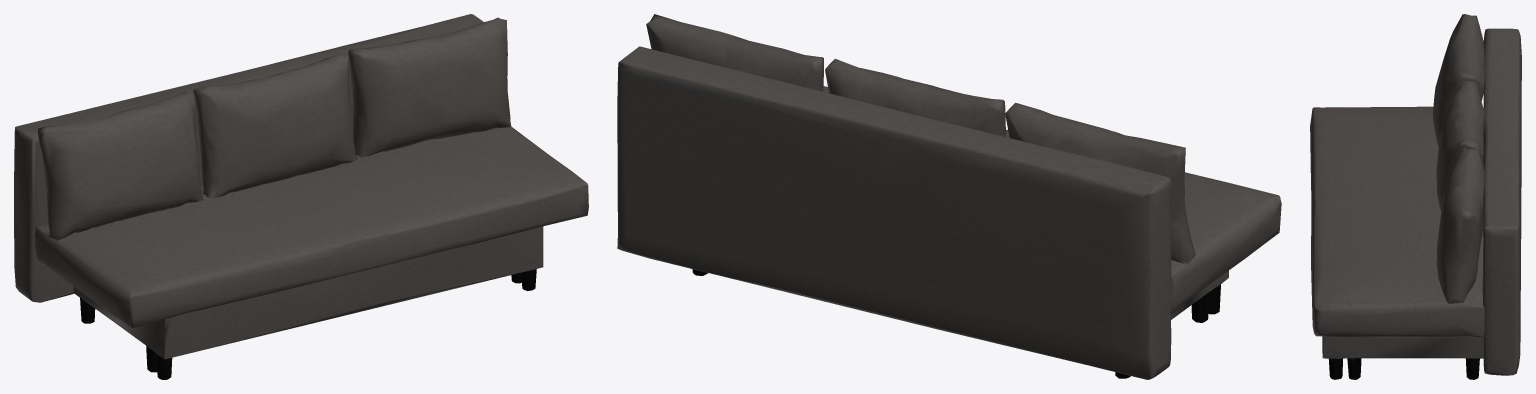
File: alvdalen_sofa_3_osobowa_rozkadana_80462596.glb
3 renders of one model, left to right at view 1: azimuth 30°, elevation 25°; view 2: azimuth 150°, elevation 25°; view 3: azimuth 270°, elevation 25°, orthographic. The views are drawn at different scales.
Parts seen in each view (by area): view 1: alvdalen_sofa_3_osobowa_rozkadana_80462596; view 2: alvdalen_sofa_3_osobowa_rozkadana_80462596; view 3: alvdalen_sofa_3_osobowa_rozkadana_80462596.
Part boxes in pixels (left/top/right/bottom): alvdalen_sofa_3_osobowa_rozkadana_80462596: left=14, top=14, right=588, bottom=379; alvdalen_sofa_3_osobowa_rozkadana_80462596: left=617, top=14, right=1281, bottom=379; alvdalen_sofa_3_osobowa_rozkadana_80462596: left=1310, top=14, right=1521, bottom=379.
Size of the model in its own units: 1.96 by 0.8342 by 0.8571.
Materials: 1 (1 with a texture image).
